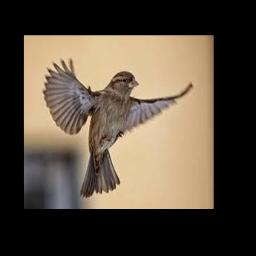Sparrow: (43, 58, 192, 197)
